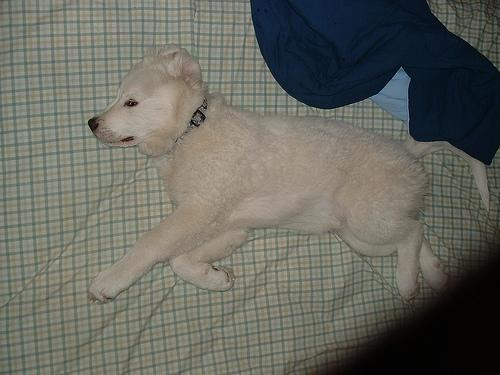Great_Pyrenees: (86, 41, 457, 307)
